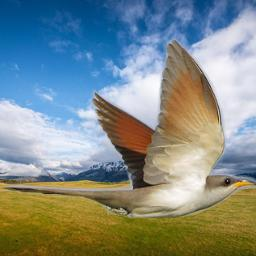Cuckoo: (1, 40, 256, 218)
